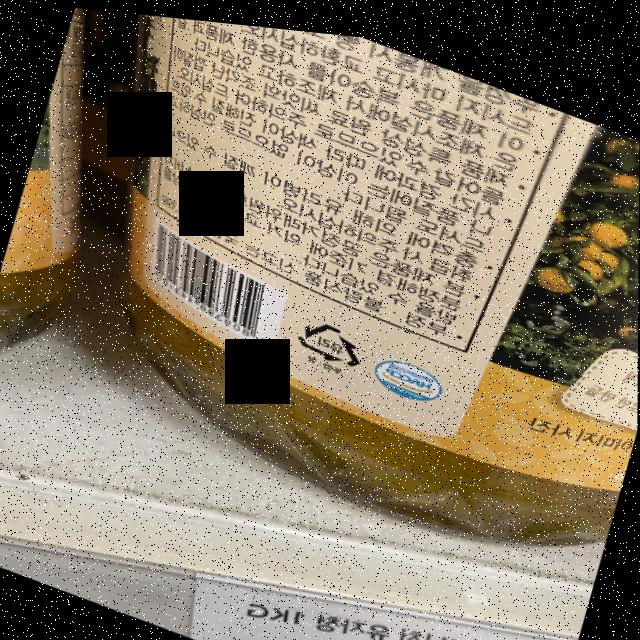Glass: (293, 304, 371, 366)
